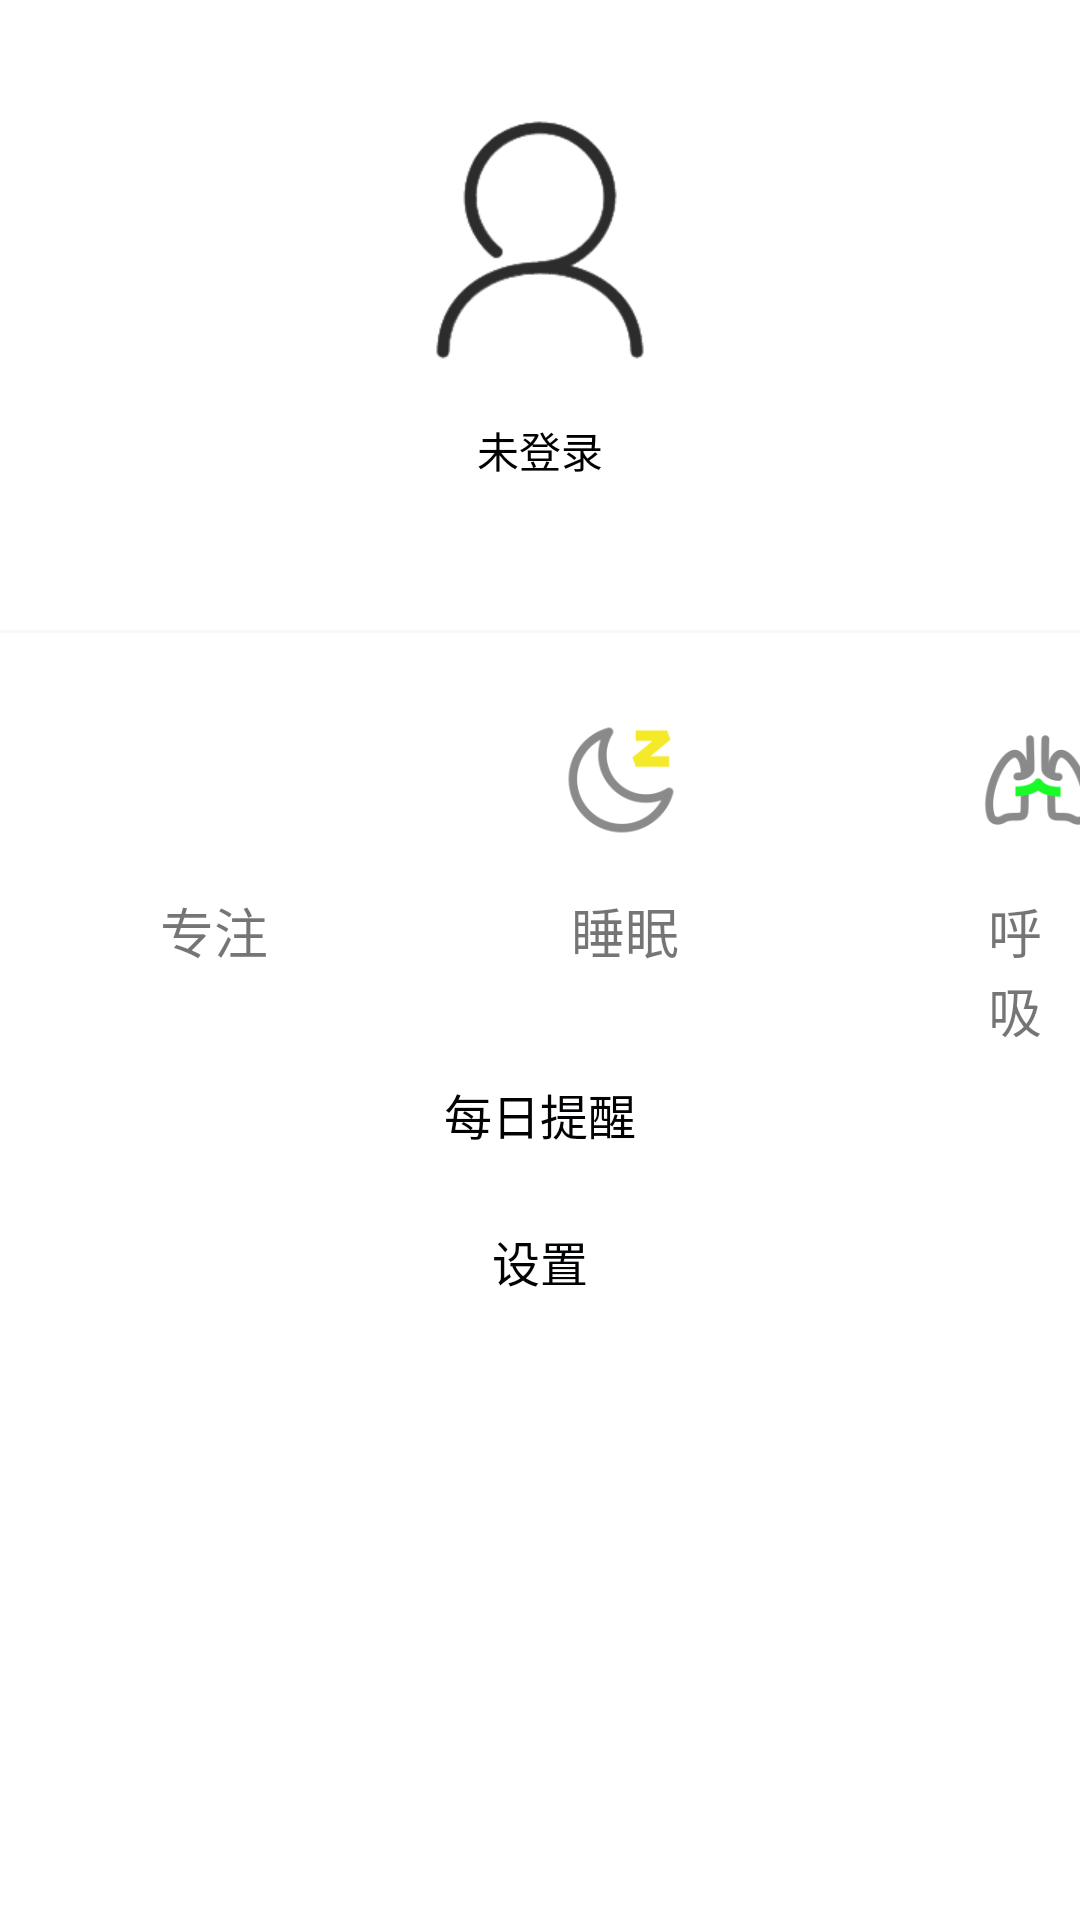

Where to tap for icons on this 1080px×1920px app screen, as (x,y):
shuimian: (621,780)
user touxiang: (540,240)
